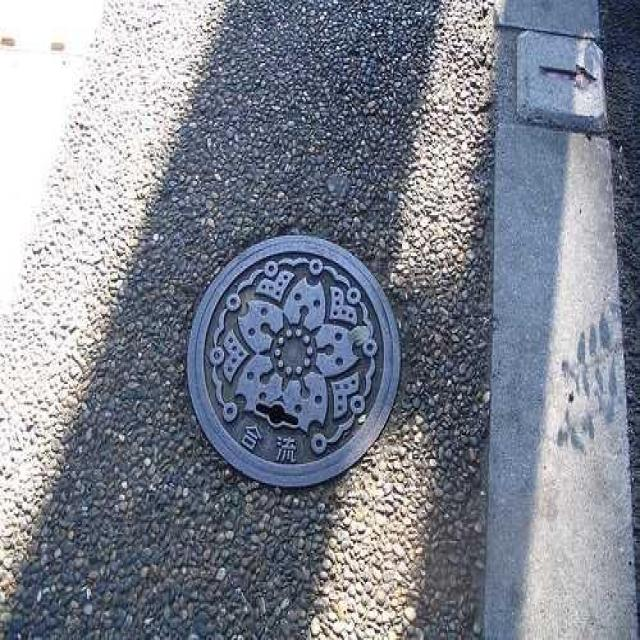manhole: (186, 234, 402, 492)
